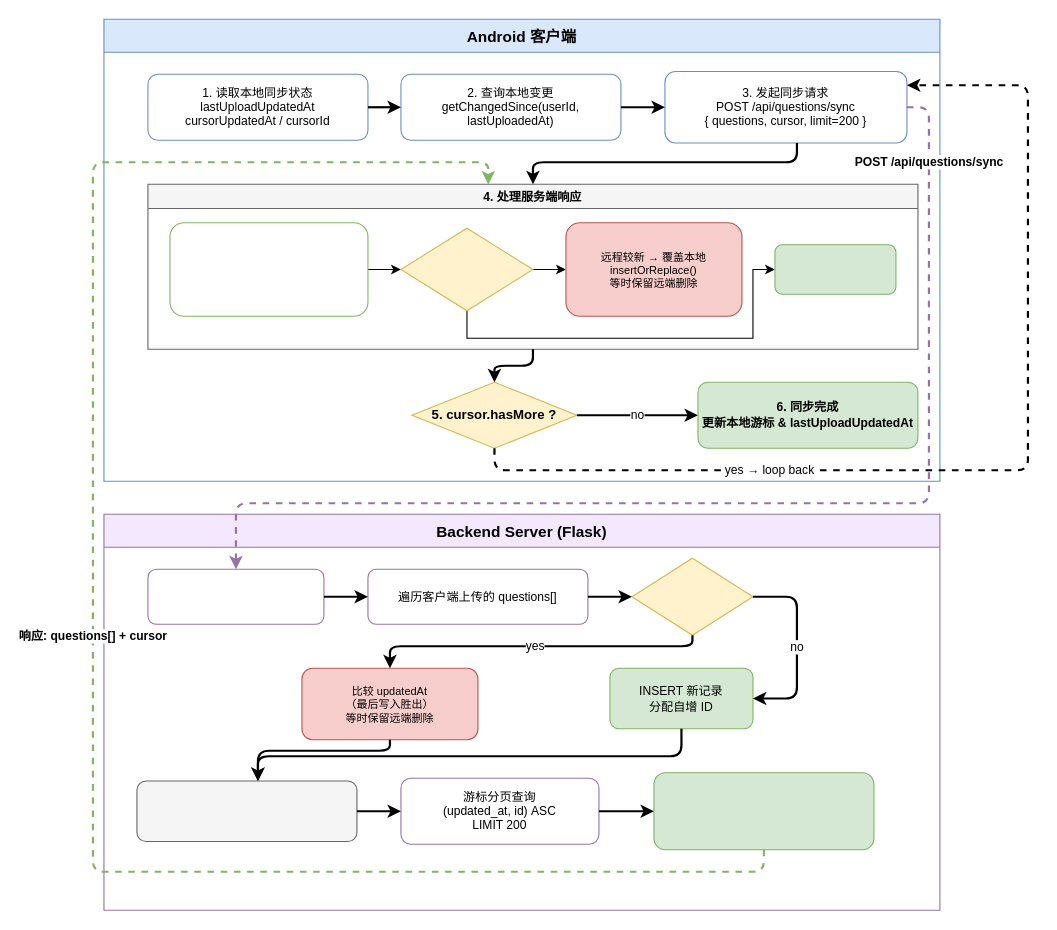
The diagram is 1057 pixels wide and 930 high, and some of its shapes have lost their labels. Here are the shapes that lost their labels. From the top down, the centre of each, then its label:
At point 268,269: "对每条远程题目： 按 cloudId 查找本地记录".
At point 466,269: "比较 updatedAt （最后写入胜出）".
At point 835,269: "本地较新 → 跳过".
At point 235,596: "解析 Token → user_id".
At point 692,596: "有 cloudId ?".
At point 246,811: "墓碑清理 DELETE deleted_at < now - 30d".
At point 763,811: "返回: questions[] + cursor + hasMore + stats.updatedCount".
